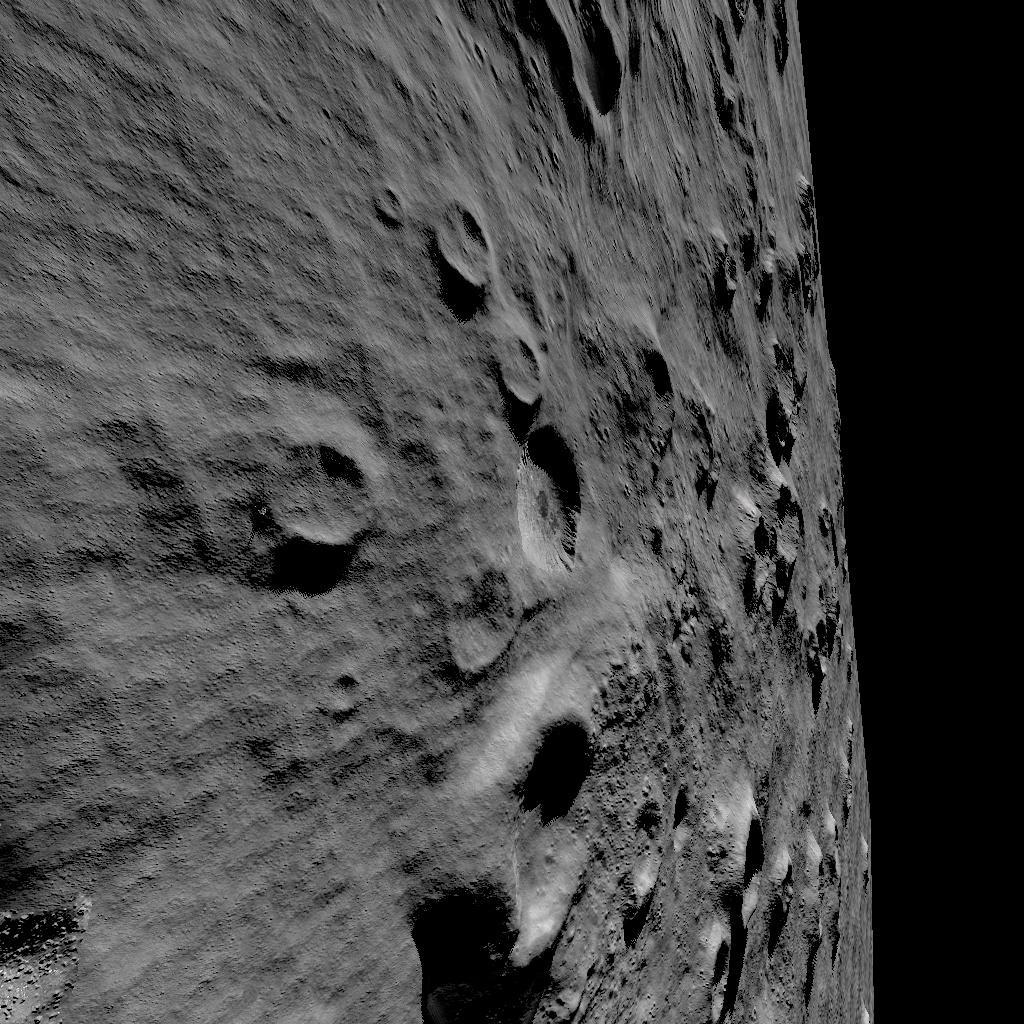Boulders: (0, 708, 113, 1024)
Crater: (436, 200, 598, 585), (440, 682, 620, 1010), (638, 775, 872, 1024), (736, 338, 840, 720), (454, 0, 668, 150), (708, 0, 810, 163), (614, 320, 702, 505), (716, 172, 823, 320), (261, 435, 378, 565)
Plan surface: (0, 0, 423, 420), (134, 702, 420, 1024), (0, 435, 246, 690)
